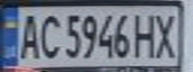4: (97, 10, 118, 58)
5: (60, 10, 81, 58)
6: (112, 10, 136, 60)
9: (78, 11, 100, 60)
A: (15, 10, 42, 61)
C: (36, 10, 63, 61)
H: (133, 10, 160, 58)
X: (151, 9, 181, 60)
